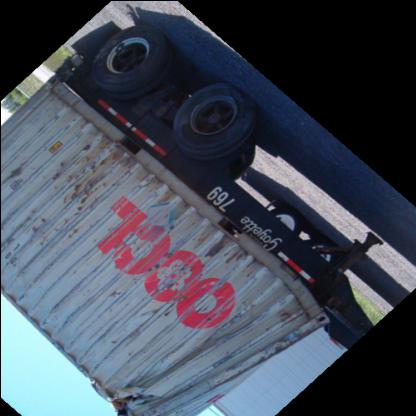Damage: (176, 214, 301, 370), (3, 129, 122, 275), (103, 331, 174, 414)
